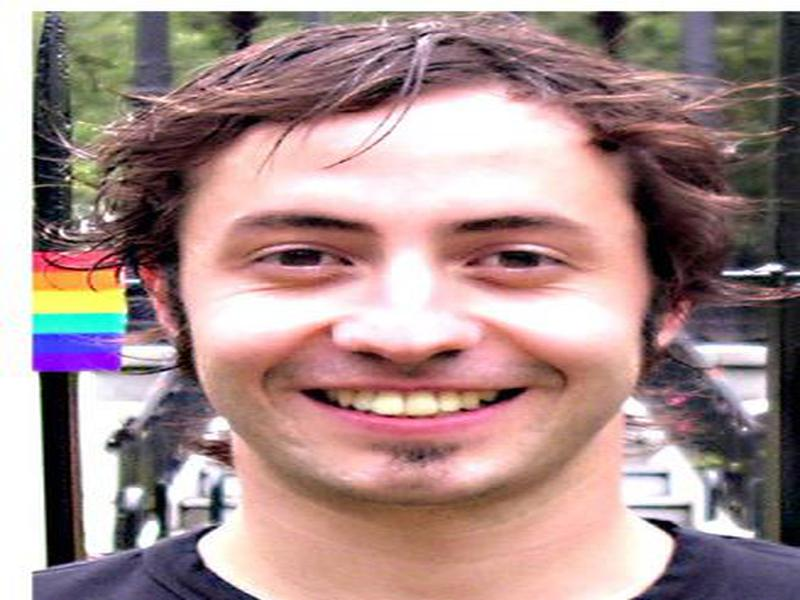without_mask: (180, 104, 638, 508)
